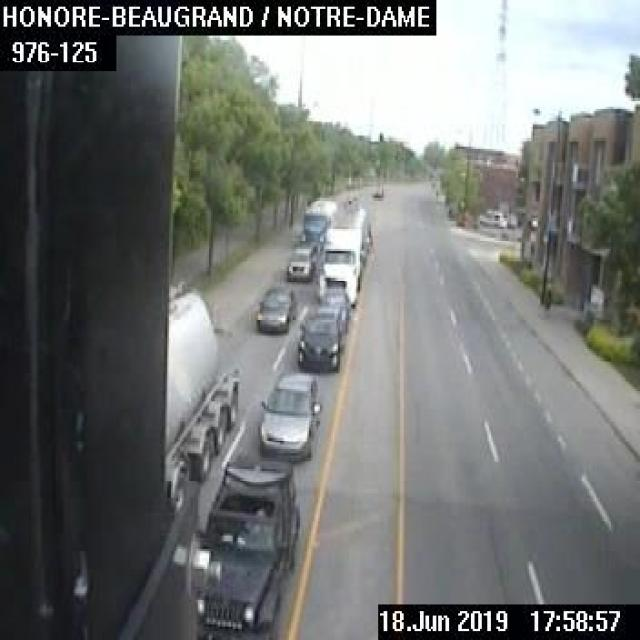vehicle: (193, 459, 300, 633), (163, 287, 238, 513), (318, 195, 368, 306), (257, 371, 320, 457), (296, 303, 340, 371), (255, 286, 295, 332), (300, 196, 334, 247), (320, 286, 350, 329), (286, 241, 316, 280), (478, 208, 506, 227), (370, 188, 383, 198)
